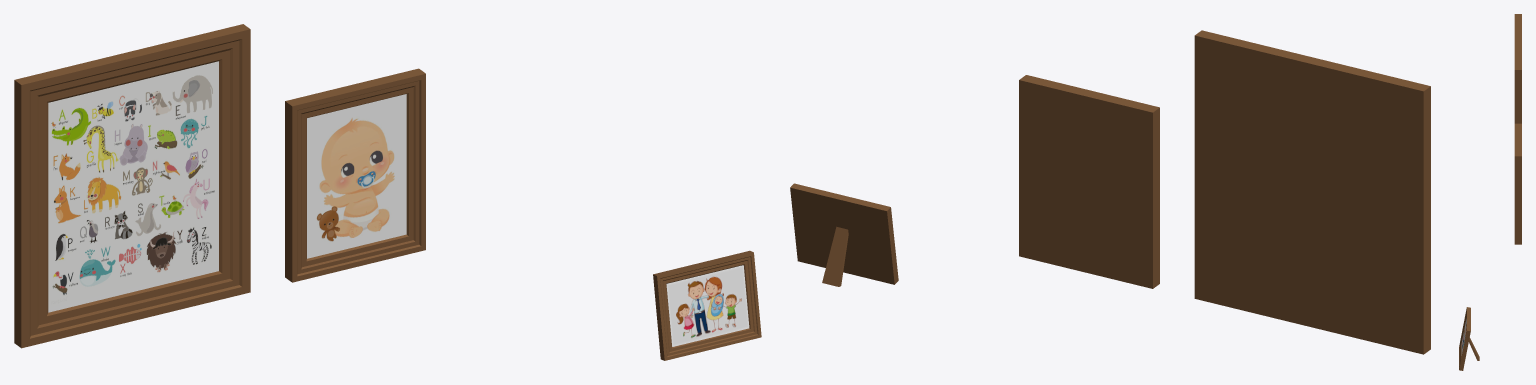
The model's file is PictureFrames.FBX.
3 renders of one model, left to right at view 1: azimuth 30°, elevation 25°; view 2: azimuth 150°, elevation 25°; view 3: azimuth 270°, elevation 25°, orthographic. The views are drawn at different scales.
Visible parts, largest first — view 1: PictureFrame003, PictureFrame004, PictureFrameSmall; view 2: PictureFrame003, PictureFrame004, PictureFrameSmall; view 3: PictureFrame004, PictureFrame003, PictureFrameSmall.
Part boxes in pixels (x1,y1,x2,y2): PictureFrame003: [14, 24, 250, 348]; PictureFrame004: [285, 68, 425, 282]; PictureFrameSmall: [653, 250, 761, 360]; PictureFrame003: [1194, 30, 1430, 354]; PictureFrame004: [1019, 75, 1159, 288]; PictureFrameSmall: [790, 183, 898, 286]; PictureFrame004: [1514, 123, 1521, 244]; PictureFrame003: [1514, 14, 1521, 123]; PictureFrameSmall: [1459, 307, 1479, 370].
Bounding box in the file's own units: 2.65 × 0.4209 × 1.41.
Materials: 1 (1 with a texture image).
